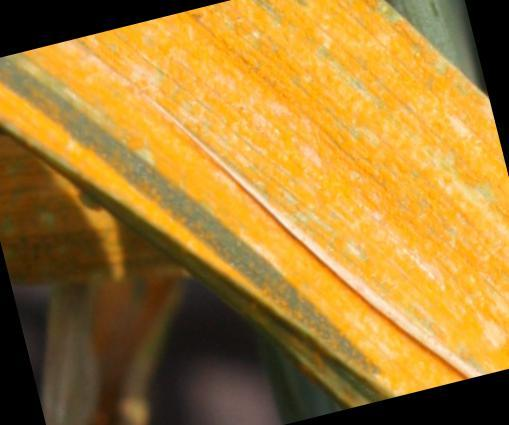Wheat: (151, 7, 499, 296)
